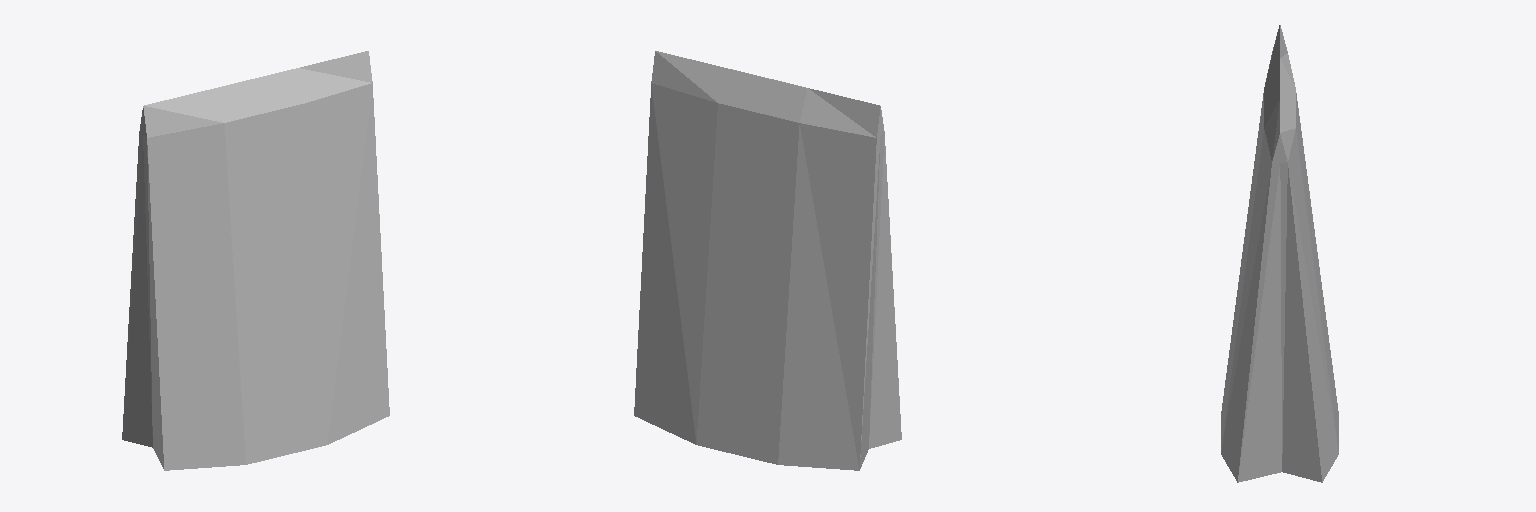
Rendered from catFood.obj.
3 renders of one model, left to right at view 1: azimuth 30°, elevation 25°; view 2: azimuth 150°, elevation 25°; view 3: azimuth 270°, elevation 25°, orthographic.
Visible parts, largest first — view 1: Mesh; view 2: Mesh; view 3: Mesh.
Boxes of the visible parts, box(x1,y1,x2,y2) form: Mesh: box(122, 51, 389, 470); Mesh: box(634, 51, 901, 470); Mesh: box(1221, 25, 1338, 482).
Size of the model in its own units: 44.45 by 66.97 by 20.14.